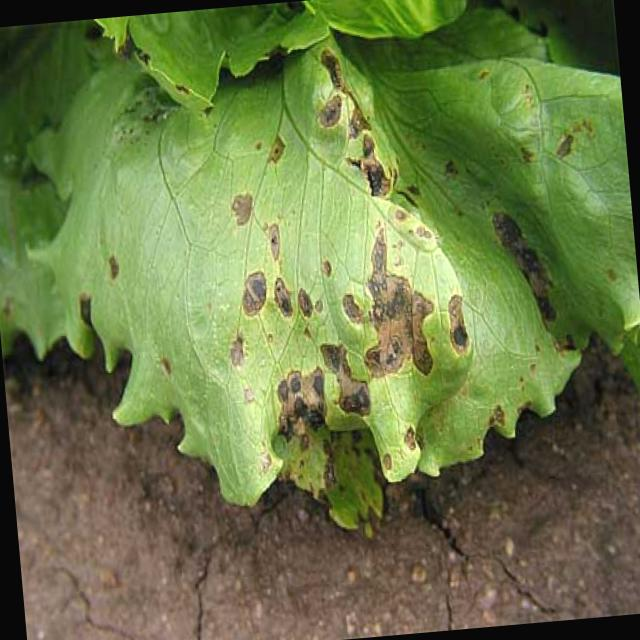Bacterial: (164, 0, 513, 507)
